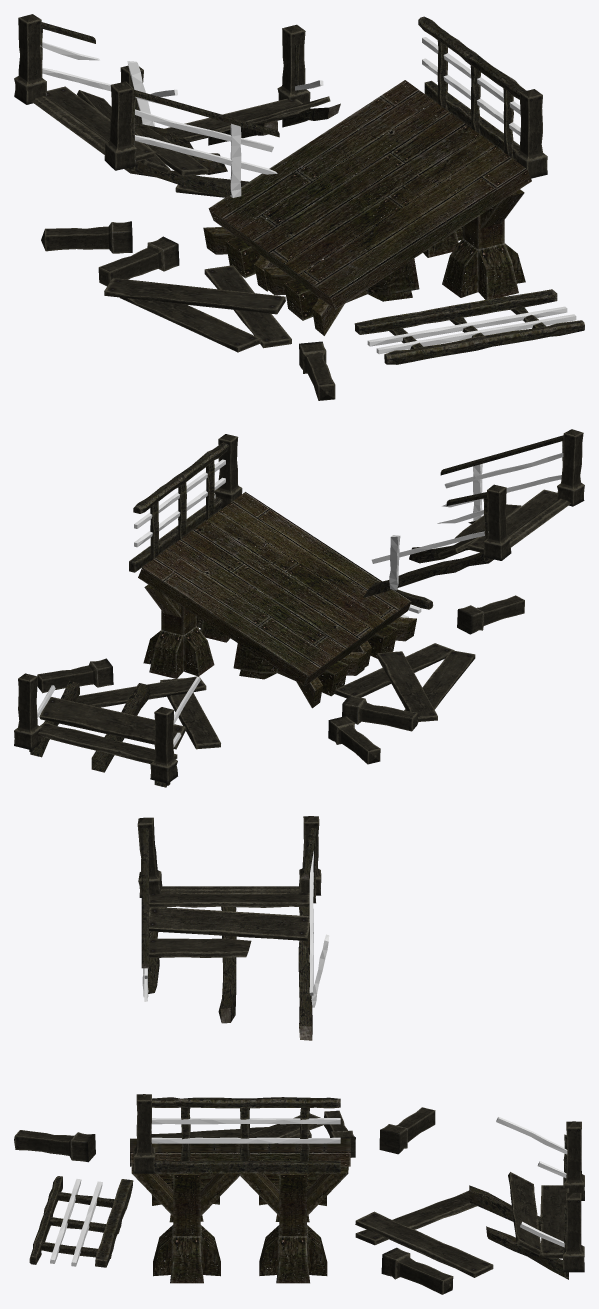
File: stairs_wood_broken.dae
3 views of the same model, one above another, from view 1: azimuth 30°, elevation 25°; view 2: azimuth 150°, elevation 25°; view 3: azimuth 270°, elevation 25° (orthographic). The views are drawn at different scales.
Visible parts, largest first — view 1: Plane_003, polySurface18_003, pCube2_027, polySurface18_004, pCube2_024, pCube2_049, polySurface37_053, polySurface26_003, pCube2_035, pCube2_044, pCube2_038, pCube2_037 (+19 smaller); view 2: Plane_003, pCube2_026, polySurface18_004, pCube2_043, pCube2_025, pCube2_049, pCube2_042, polySurface37_053, pCube2_048, pCube2_041, pCube2_038, pCube2_040 (+18 smaller); view 3: pCube2_026, pCube2_027, polySurface18_004, pCube2_033, polySurface18_003, Plane_003, pCube2_051, polySurface26_004, pCube2_039, pCube2_034, pCube2_046, pCube2_043 (+20 smaller).
Boxes of the visible parts, box(x1,y1,x2,y2) form: Plane_003: box(208, 80, 531, 309); polySurface18_003: box(354, 289, 584, 364); pCube2_027: box(442, 156, 525, 299); polySurface18_004: box(418, 16, 526, 160); pCube2_024: box(262, 221, 419, 335); pCube2_049: box(104, 278, 285, 314); polySurface37_053: box(40, 42, 277, 174); polySurface26_003: box(367, 306, 576, 354); pCube2_035: box(119, 297, 260, 352); pCube2_044: box(41, 221, 132, 253); pCube2_038: box(14, 14, 46, 104); pCube2_037: box(104, 81, 136, 170); Plane_003: box(138, 492, 411, 686); pCube2_026: box(143, 563, 214, 678); polySurface18_004: box(129, 442, 228, 572); pCube2_043: box(39, 697, 186, 749); pCube2_025: box(233, 612, 366, 708); pCube2_049: box(377, 651, 437, 721); pCube2_042: box(38, 722, 177, 763); polySurface37_053: box(371, 453, 563, 563); pCube2_048: box(334, 643, 454, 698); pCube2_041: box(150, 707, 177, 783); pCube2_038: box(483, 484, 511, 560); pCube2_040: box(14, 673, 41, 749); pCube2_026: box(240, 1164, 348, 1283); pCube2_027: box(131, 1166, 241, 1283); polySurface18_004: box(148, 1097, 340, 1173); pCube2_033: box(149, 907, 309, 940); polySurface18_003: box(29, 1176, 133, 1267); Plane_003: box(130, 1138, 350, 1166); pCube2_051: box(355, 1211, 493, 1277); polySurface26_004: box(151, 1118, 340, 1143); pCube2_039: box(149, 892, 309, 907); pCube2_034: box(149, 938, 251, 957); pCube2_046: box(14, 1130, 95, 1162); pCube2_043: box(508, 1172, 542, 1255).
Size of the model in its own units: 9.1 by 10.34 by 5.67.
6 materials, 4 textured.
